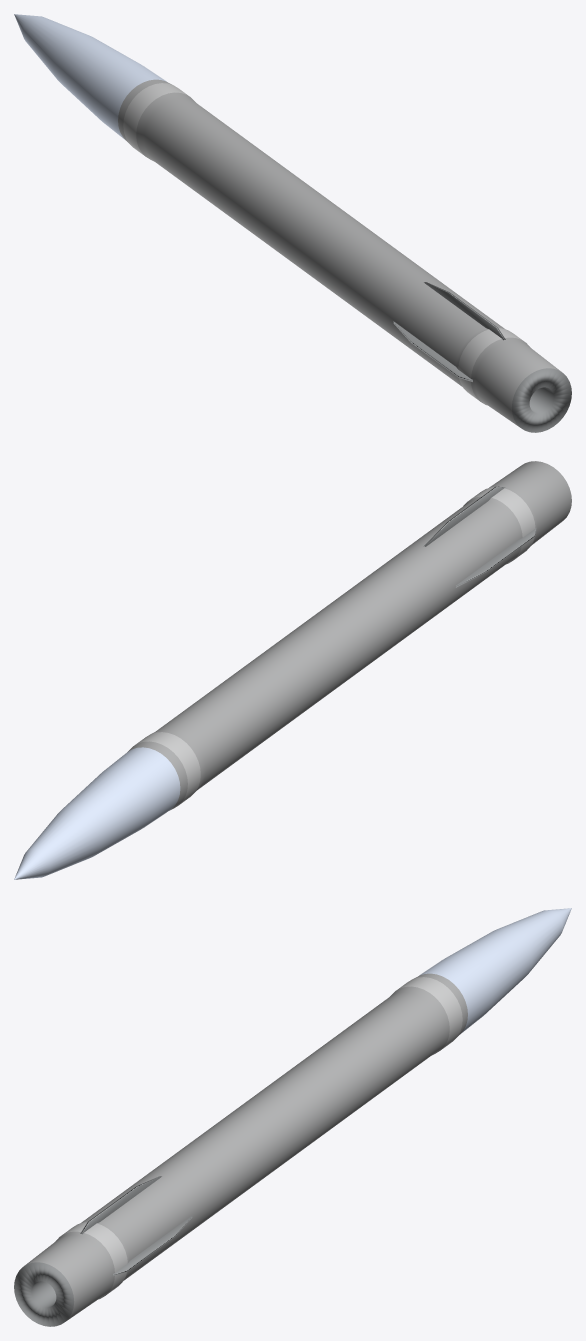
Rendered from combat.glb.
3 renders of one model, top to bottom at view 1: azimuth 30°, elevation 25°; view 2: azimuth 150°, elevation 25°; view 3: azimuth 330°, elevation 25°, orthographic.
Parts seen in each view (by area): view 1: MGAAMissile; view 2: MGAAMissile; view 3: MGAAMissile.
Boxes of the visible parts, bbox=[...] form: MGAAMissile: bbox=[14, 14, 571, 432]; MGAAMissile: bbox=[14, 461, 571, 879]; MGAAMissile: bbox=[14, 908, 571, 1326].
Size of the model in its own units: 0.068 by 0.068 by 0.82.
